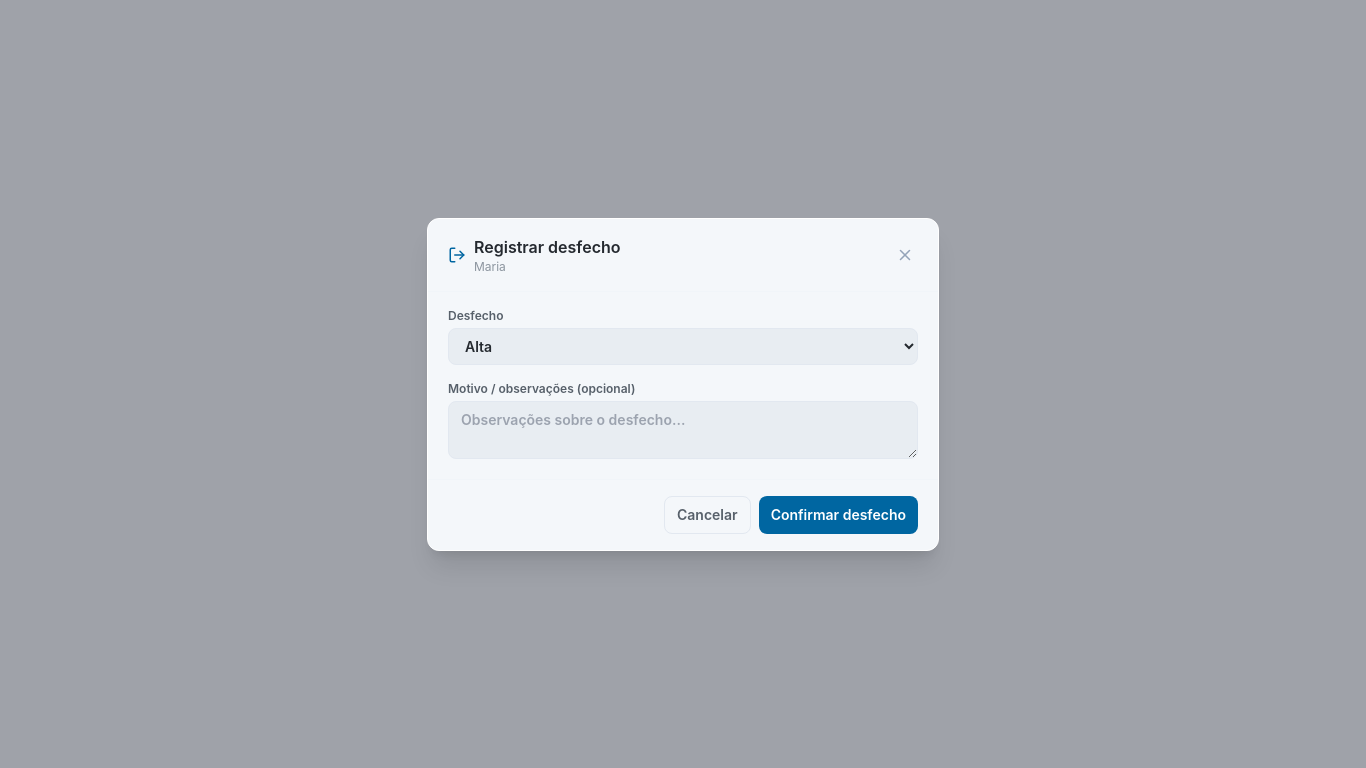
DispositionModal › blocks internação with a bed but no professionals
Step 1. Select "Internação" in the dropdown labelled "Desfecho" → (683, 346), box [448,328,918,364]
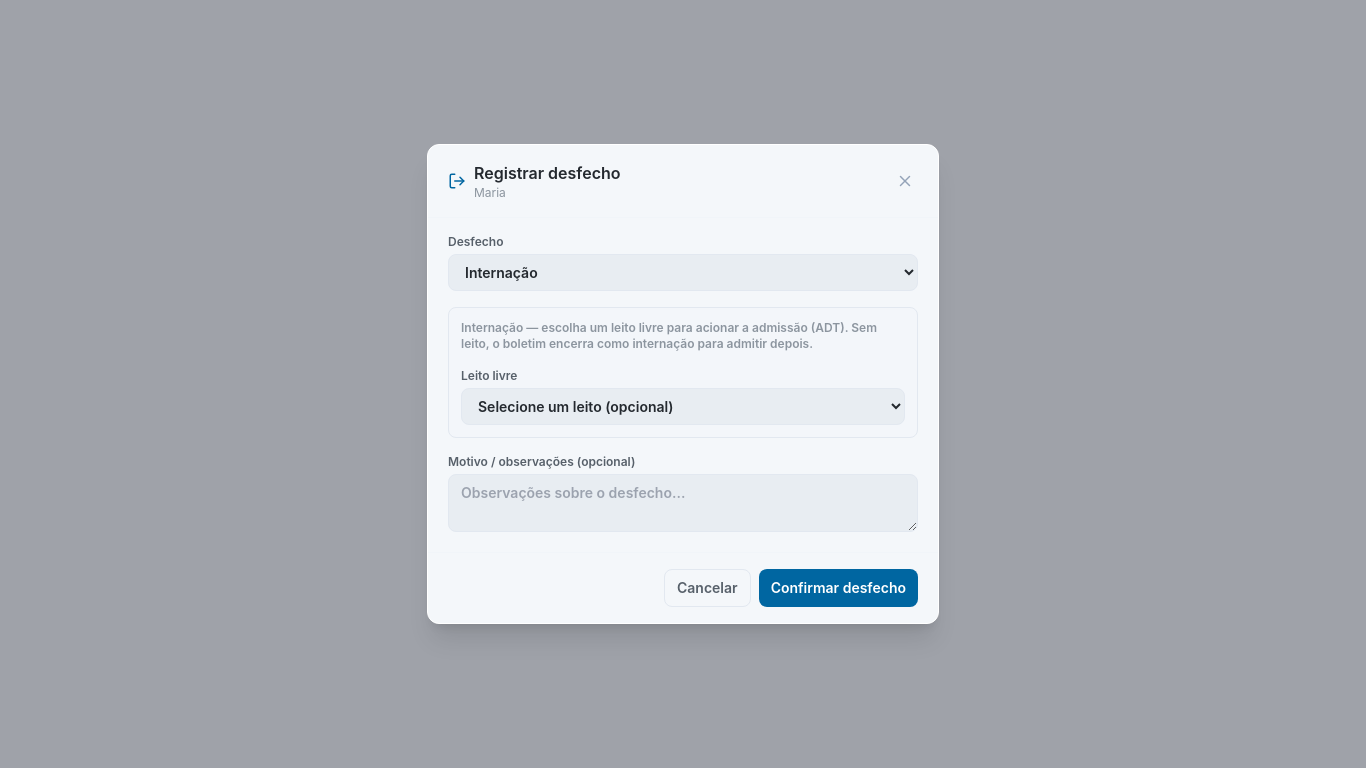
Step 2. Select "UTI-01" in the dropdown labelled "Leito livre" → (683, 406), box [461,388,905,425]
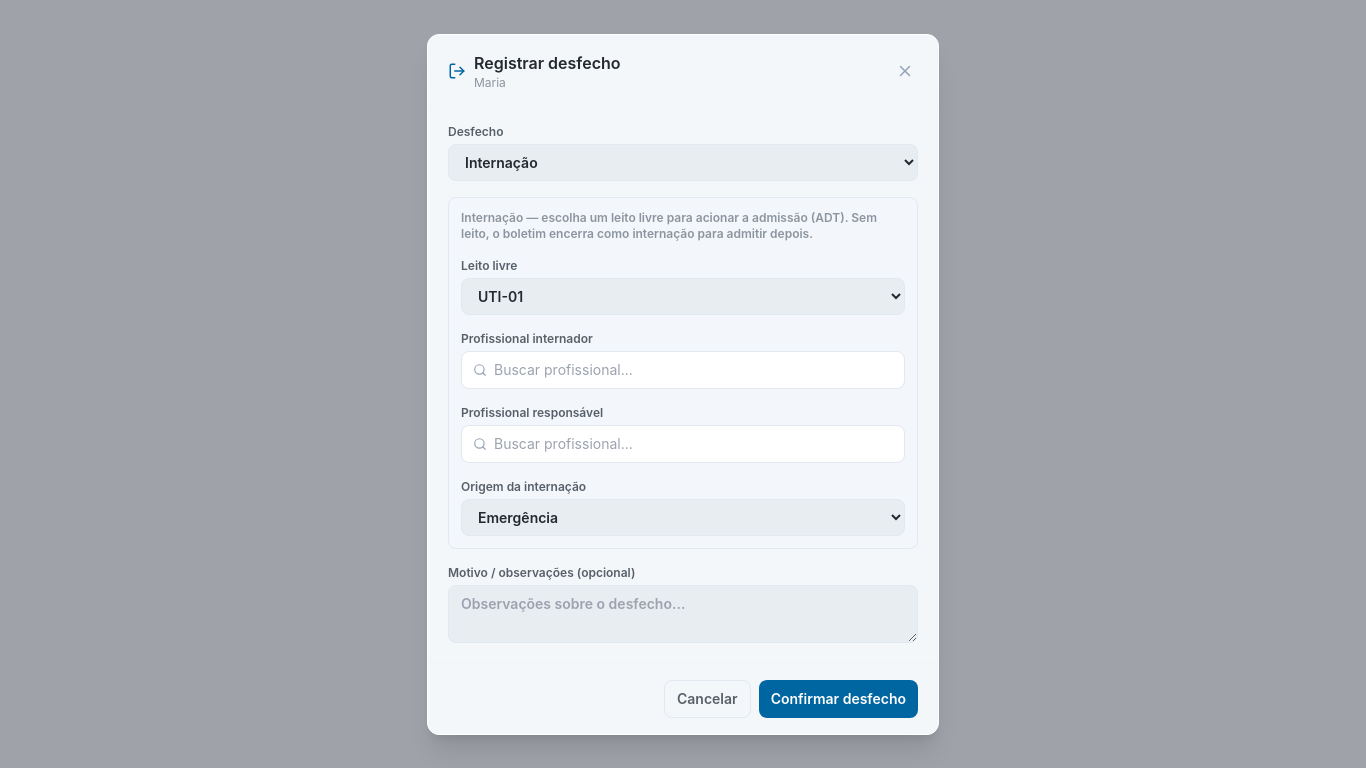
Step 3. Click the button "Confirmar desfecho" → (838, 698), box [759,680,918,718]
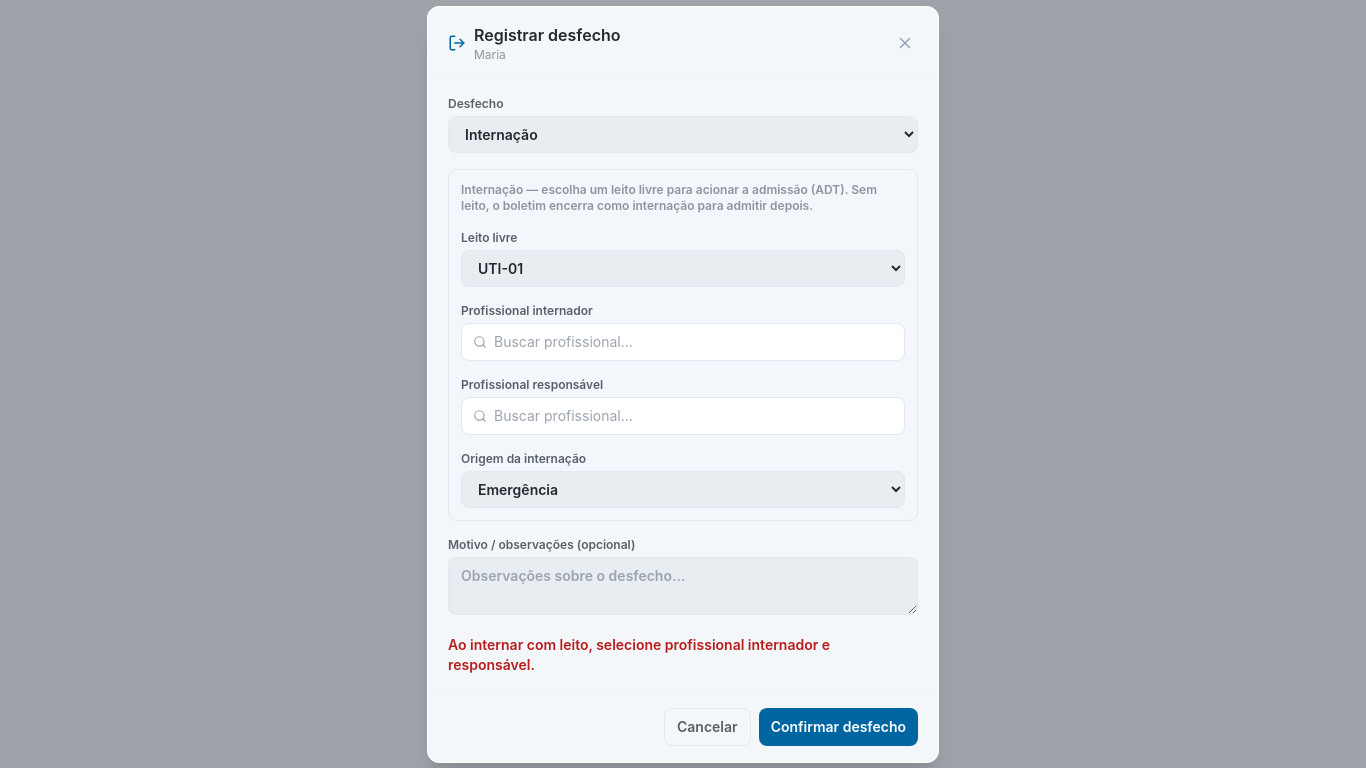
expect the text "selecione profissional internador e responsável" is shown: met, box [448,636,830,672]
